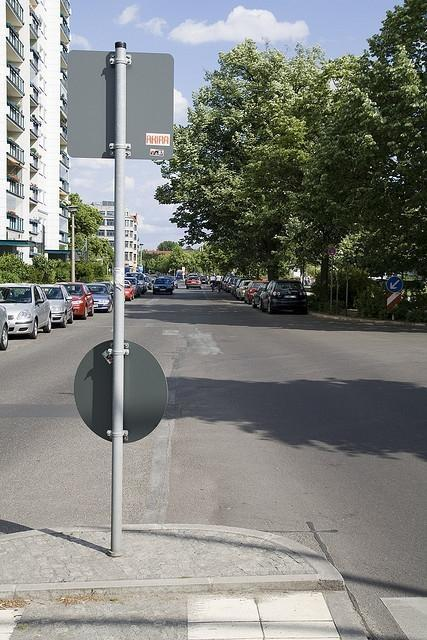car: (0, 282, 53, 338), (258, 280, 309, 314), (54, 282, 94, 320), (40, 284, 74, 328), (86, 283, 112, 310), (125, 273, 150, 295), (252, 282, 270, 308), (236, 280, 253, 300), (153, 278, 174, 294), (124, 277, 140, 297), (184, 275, 202, 289), (124, 280, 135, 301), (226, 278, 239, 292)
